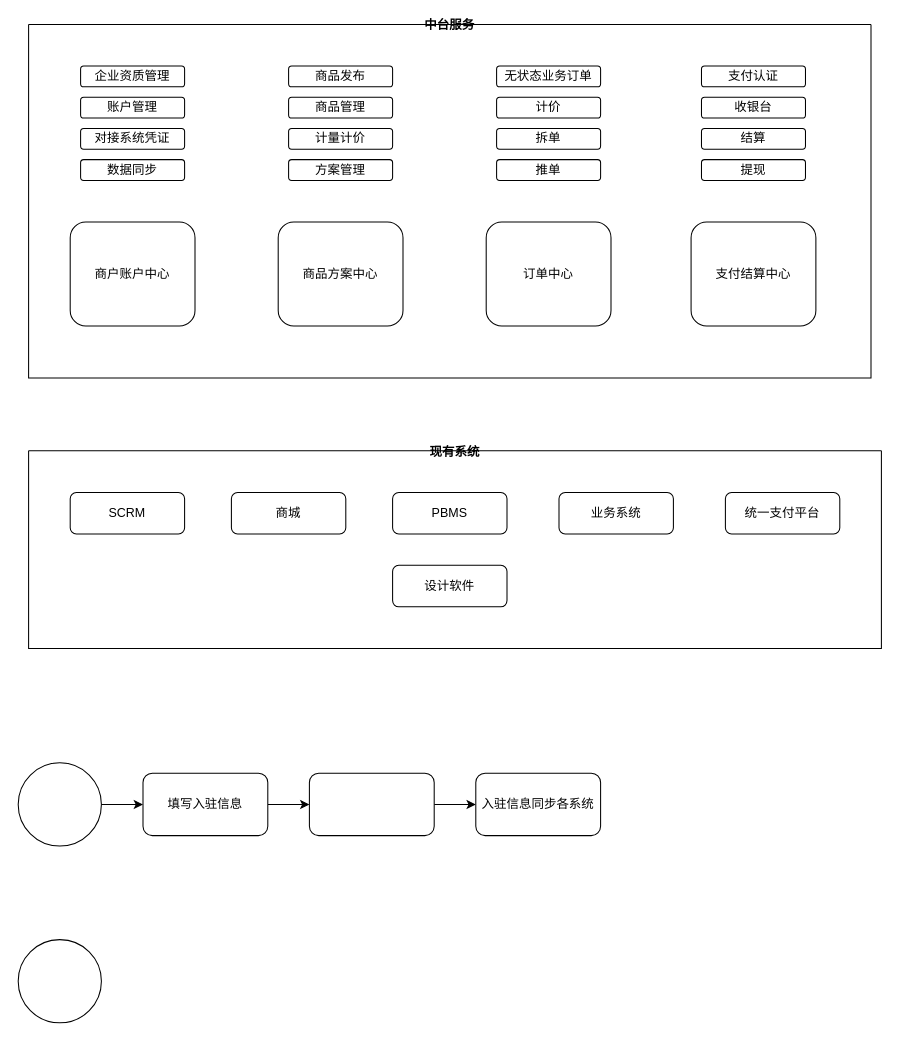
Image size: 900x1041. Some labels were removed from this diagram. The shapes that lost their labels are listed below. From the top down, each one's centre as x and y in pixels, then its label:
At point 59,804: "新商户入驻".
At point 371,804: "生成商户账户".
